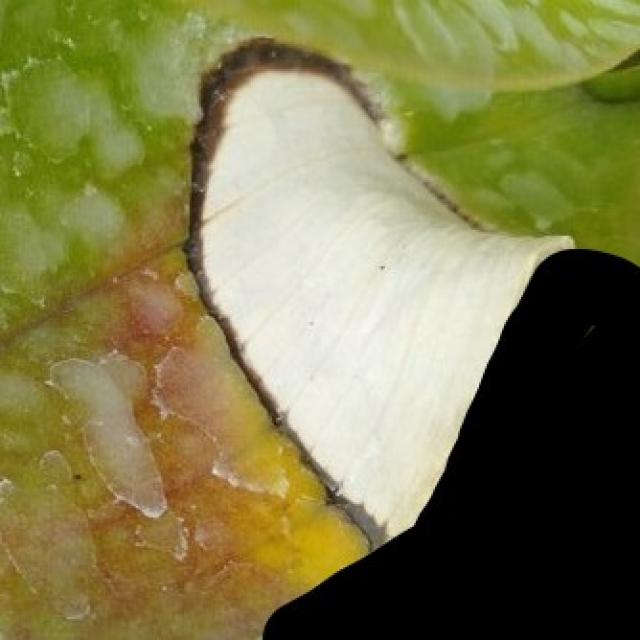mite: (257, 243, 638, 638), (0, 50, 146, 182), (0, 360, 88, 492), (54, 182, 126, 245), (581, 48, 638, 103), (0, 362, 44, 422), (0, 130, 38, 190), (65, 464, 88, 487), (69, 469, 84, 481)
